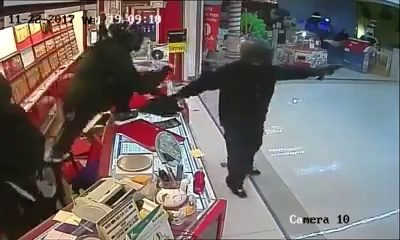helmet: (236, 34, 277, 71), (108, 22, 144, 50)
